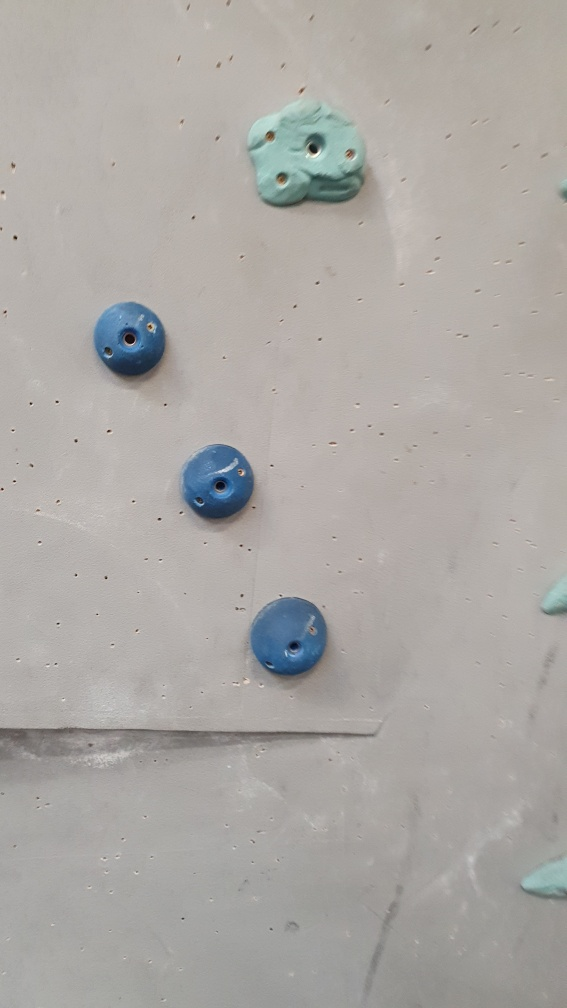Sloper: (242, 588, 333, 681), (174, 439, 265, 521), (85, 294, 173, 377)
